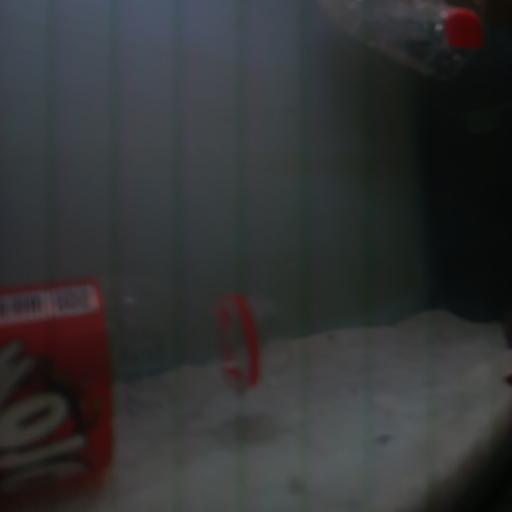bottle_cap: (446, 13, 489, 54)
plastic_bag: (334, 6, 506, 74)
plastic_bottle: (0, 284, 283, 489)
